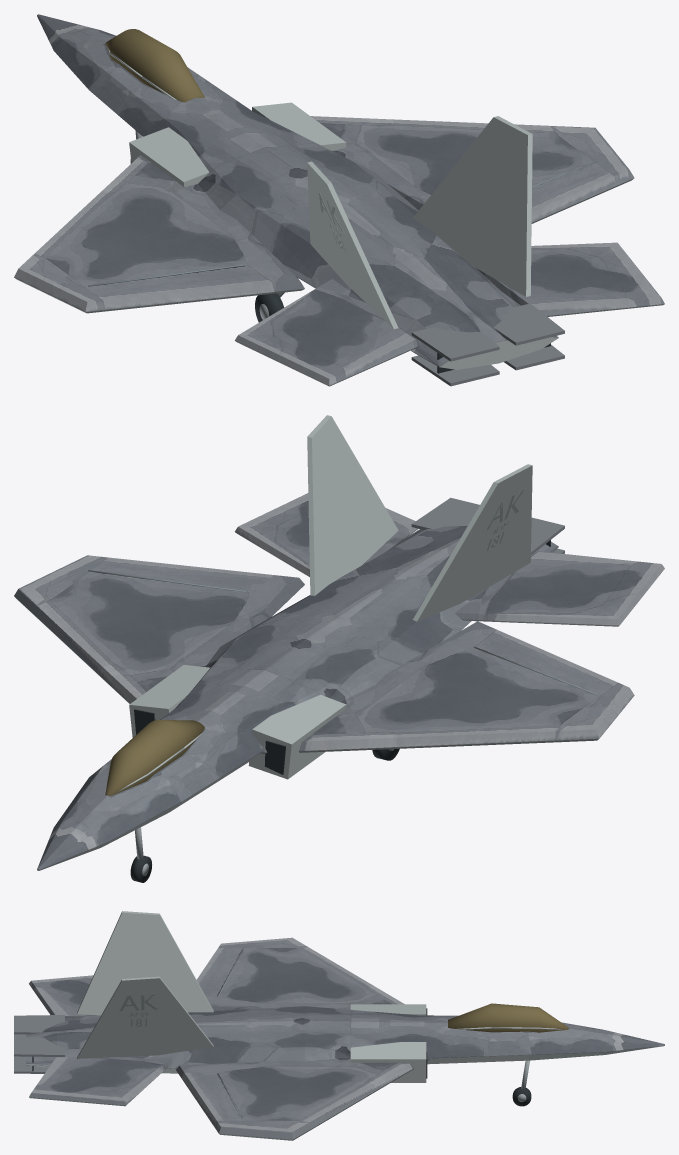
File: moffett-f22-raptor.glb
The picture shows the model from 3 angles, top to bottom: view 1: azimuth 30°, elevation 25°; view 2: azimuth 150°, elevation 25°; view 3: azimuth 270°, elevation 25°; orthographic projection. The views are drawn at different scales.
Parts seen in each view (by area): view 1: moffett-f22-raptor; view 2: moffett-f22-raptor; view 3: moffett-f22-raptor.
Boxes of the visible parts, <box> form: moffett-f22-raptor: <box>14,14,664,386</box>; moffett-f22-raptor: <box>14,415,664,882</box>; moffett-f22-raptor: <box>14,911,664,1140</box>.
Bounding box in the file's own units: 13.6 × 5.1 × 18.9.
9 materials, 1 textured.
